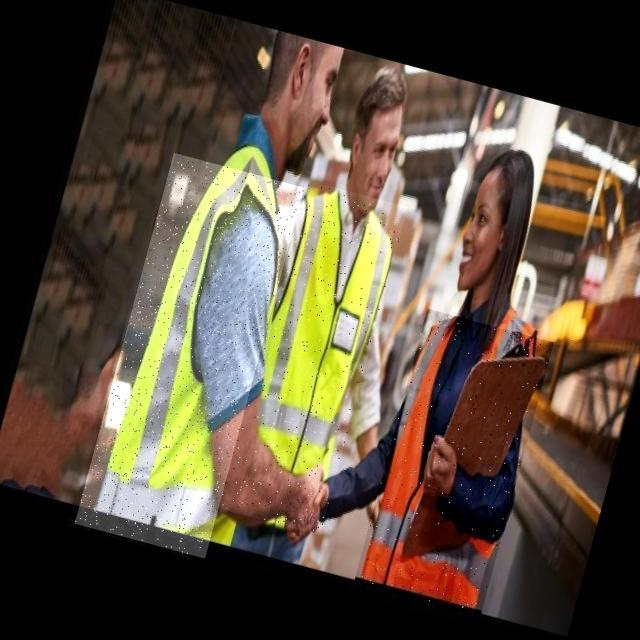Safety Vest: (74, 153, 304, 559), (218, 180, 407, 536), (353, 309, 554, 619)
